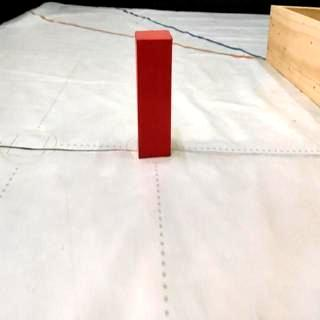redbox: (136, 31, 172, 159)
